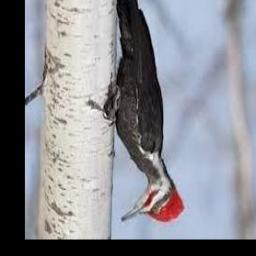Woodpecker: (107, 0, 184, 222)
